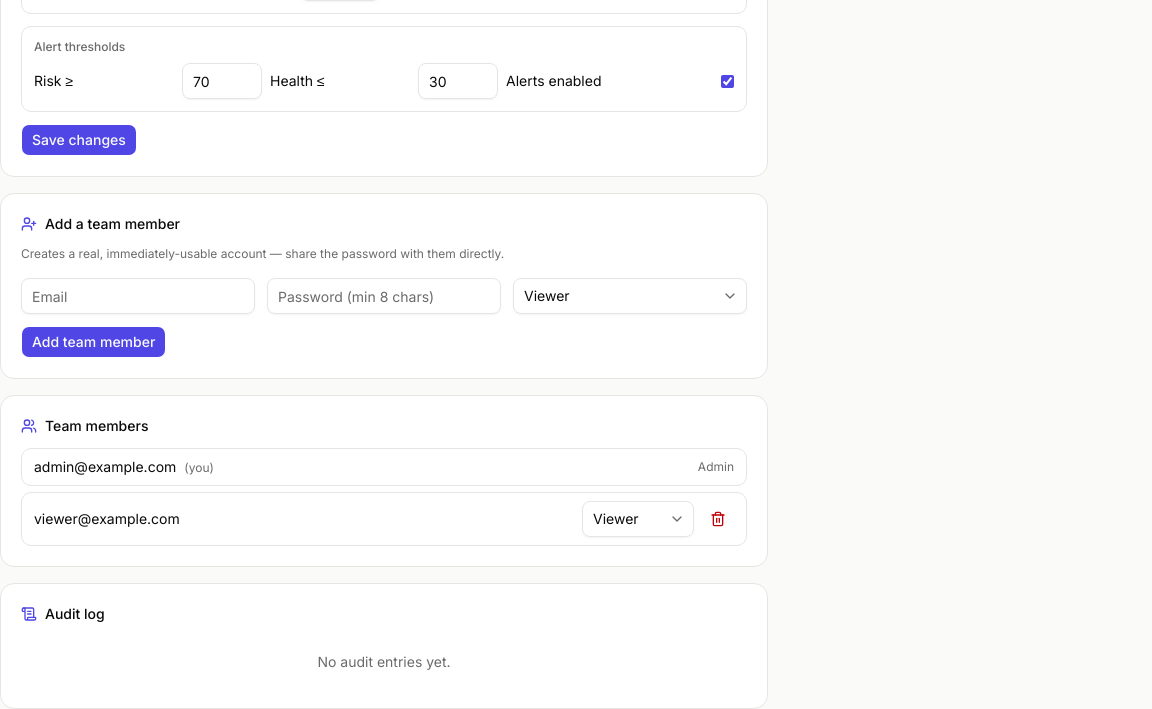
Test case: Settings > team members role management › a rejected deletion (e.g. last-admin) shows an inline row error and keeps the row
(page scrolled)
Expected: the text "viewer@example.com" is shown, [34,509,180,529]
Click the button named "remove viewer@example.com" at (718, 519), box [702,503,734,535]
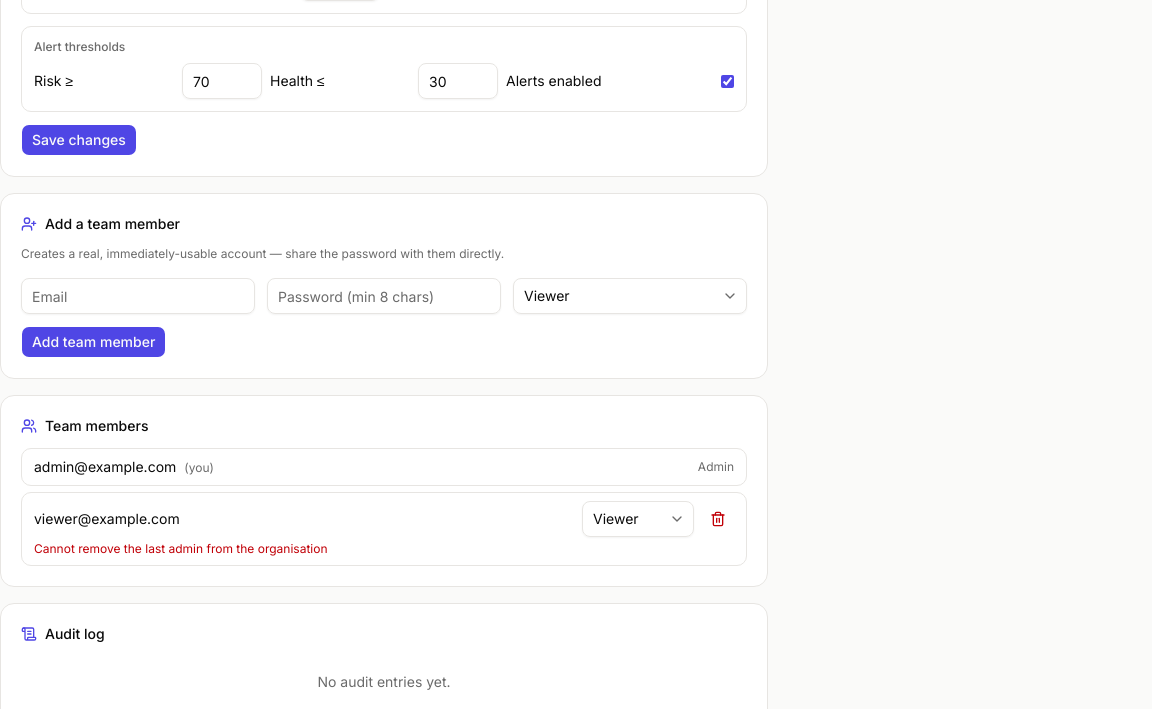
Expected: the text "viewer@example.com" is shown, [34,509,180,529]
Expected: the text "Cannot remove the last admin from the organisation" is shown, [34,541,328,556]
